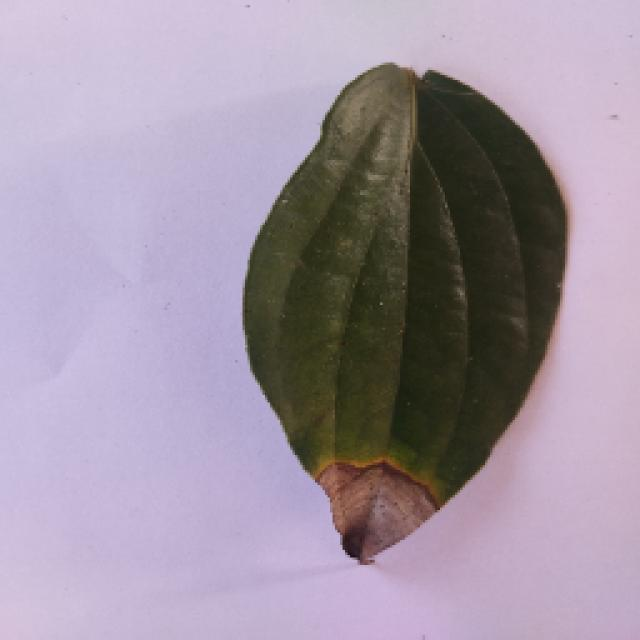footrot: (200, 68, 580, 572)
